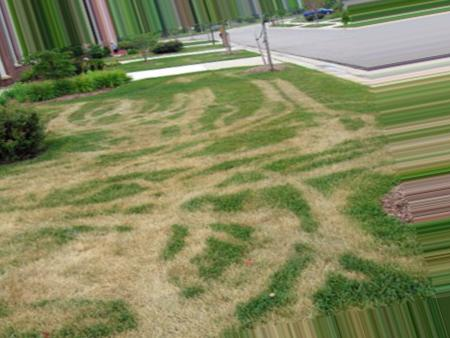patch: (47, 209, 166, 261), (74, 153, 175, 193), (52, 268, 145, 307), (213, 222, 293, 263), (174, 290, 245, 326), (255, 168, 322, 206), (89, 108, 170, 132), (272, 112, 333, 139), (264, 72, 305, 98)
